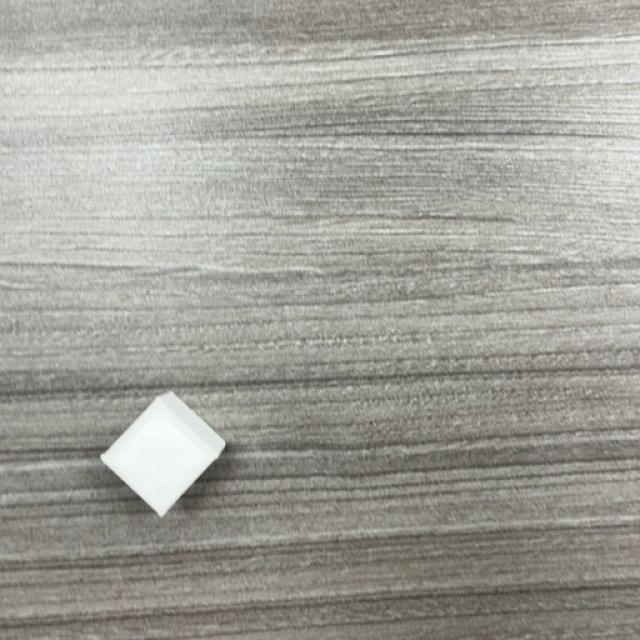Blanco: (99, 392, 228, 518)
